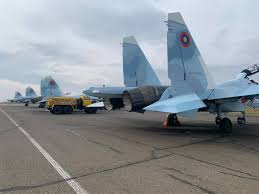maybay_muctieu: (108, 31, 257, 132)
